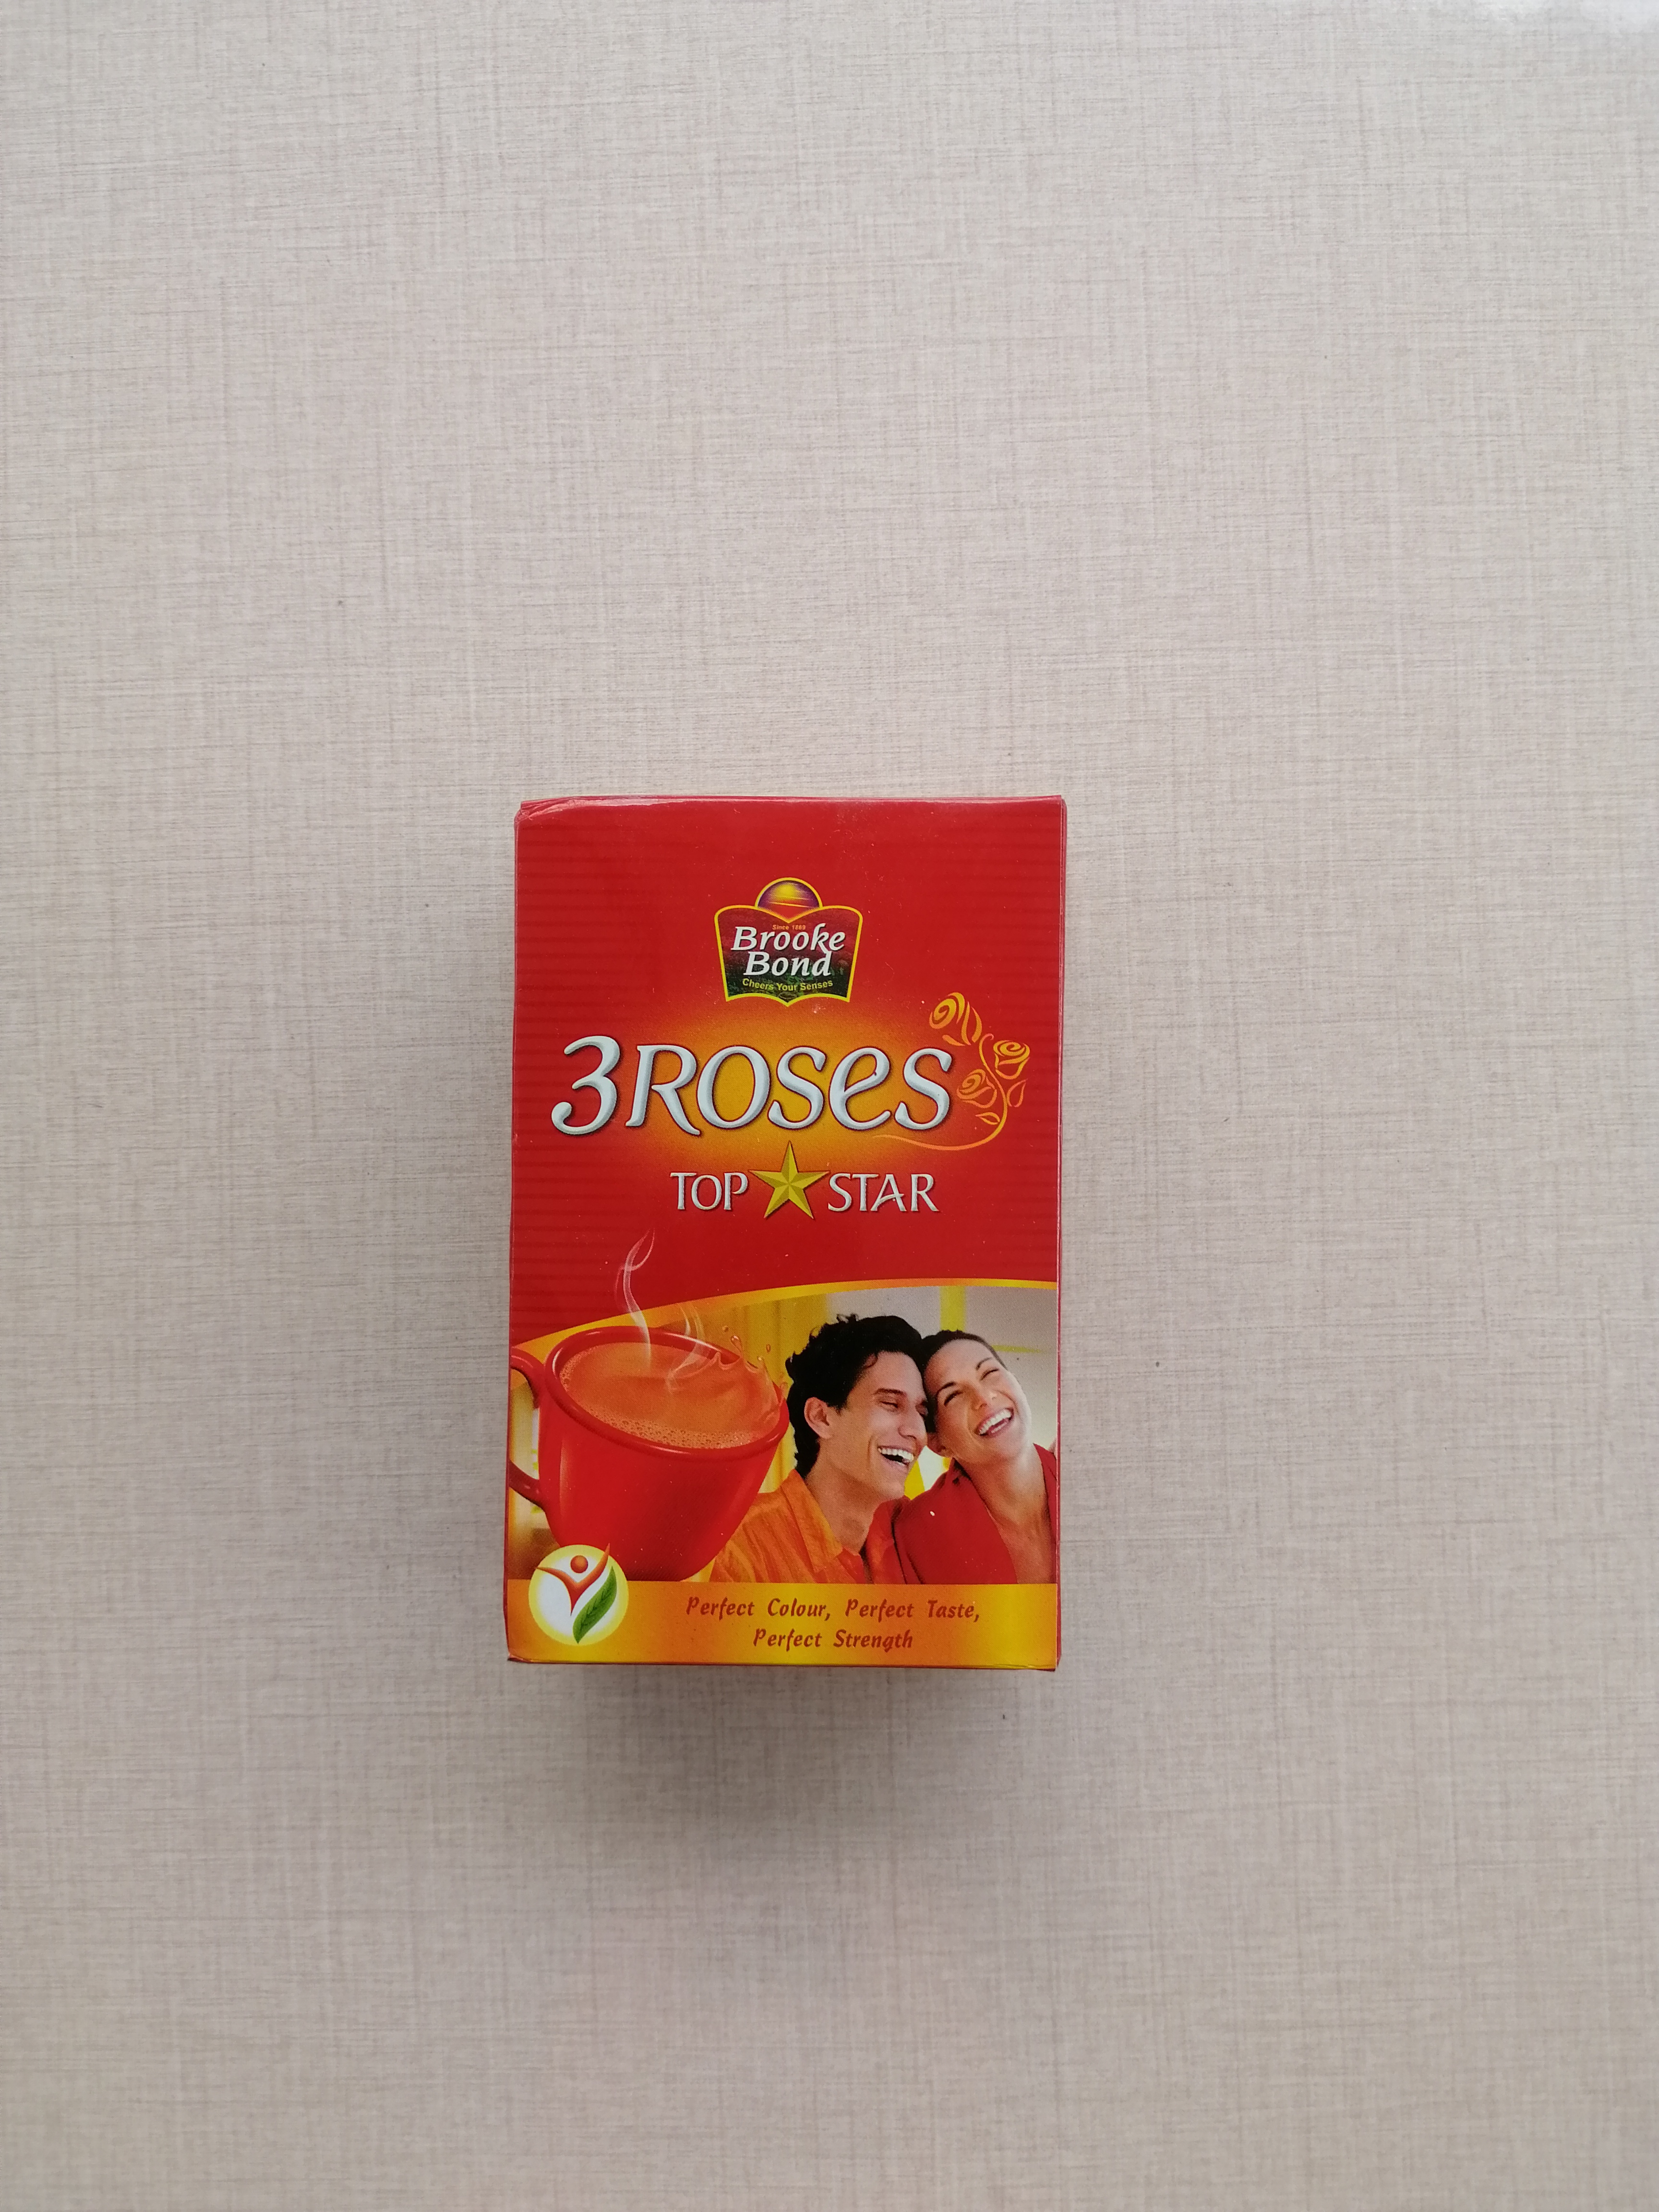3roses_top_star: (498, 798, 1066, 1667)
